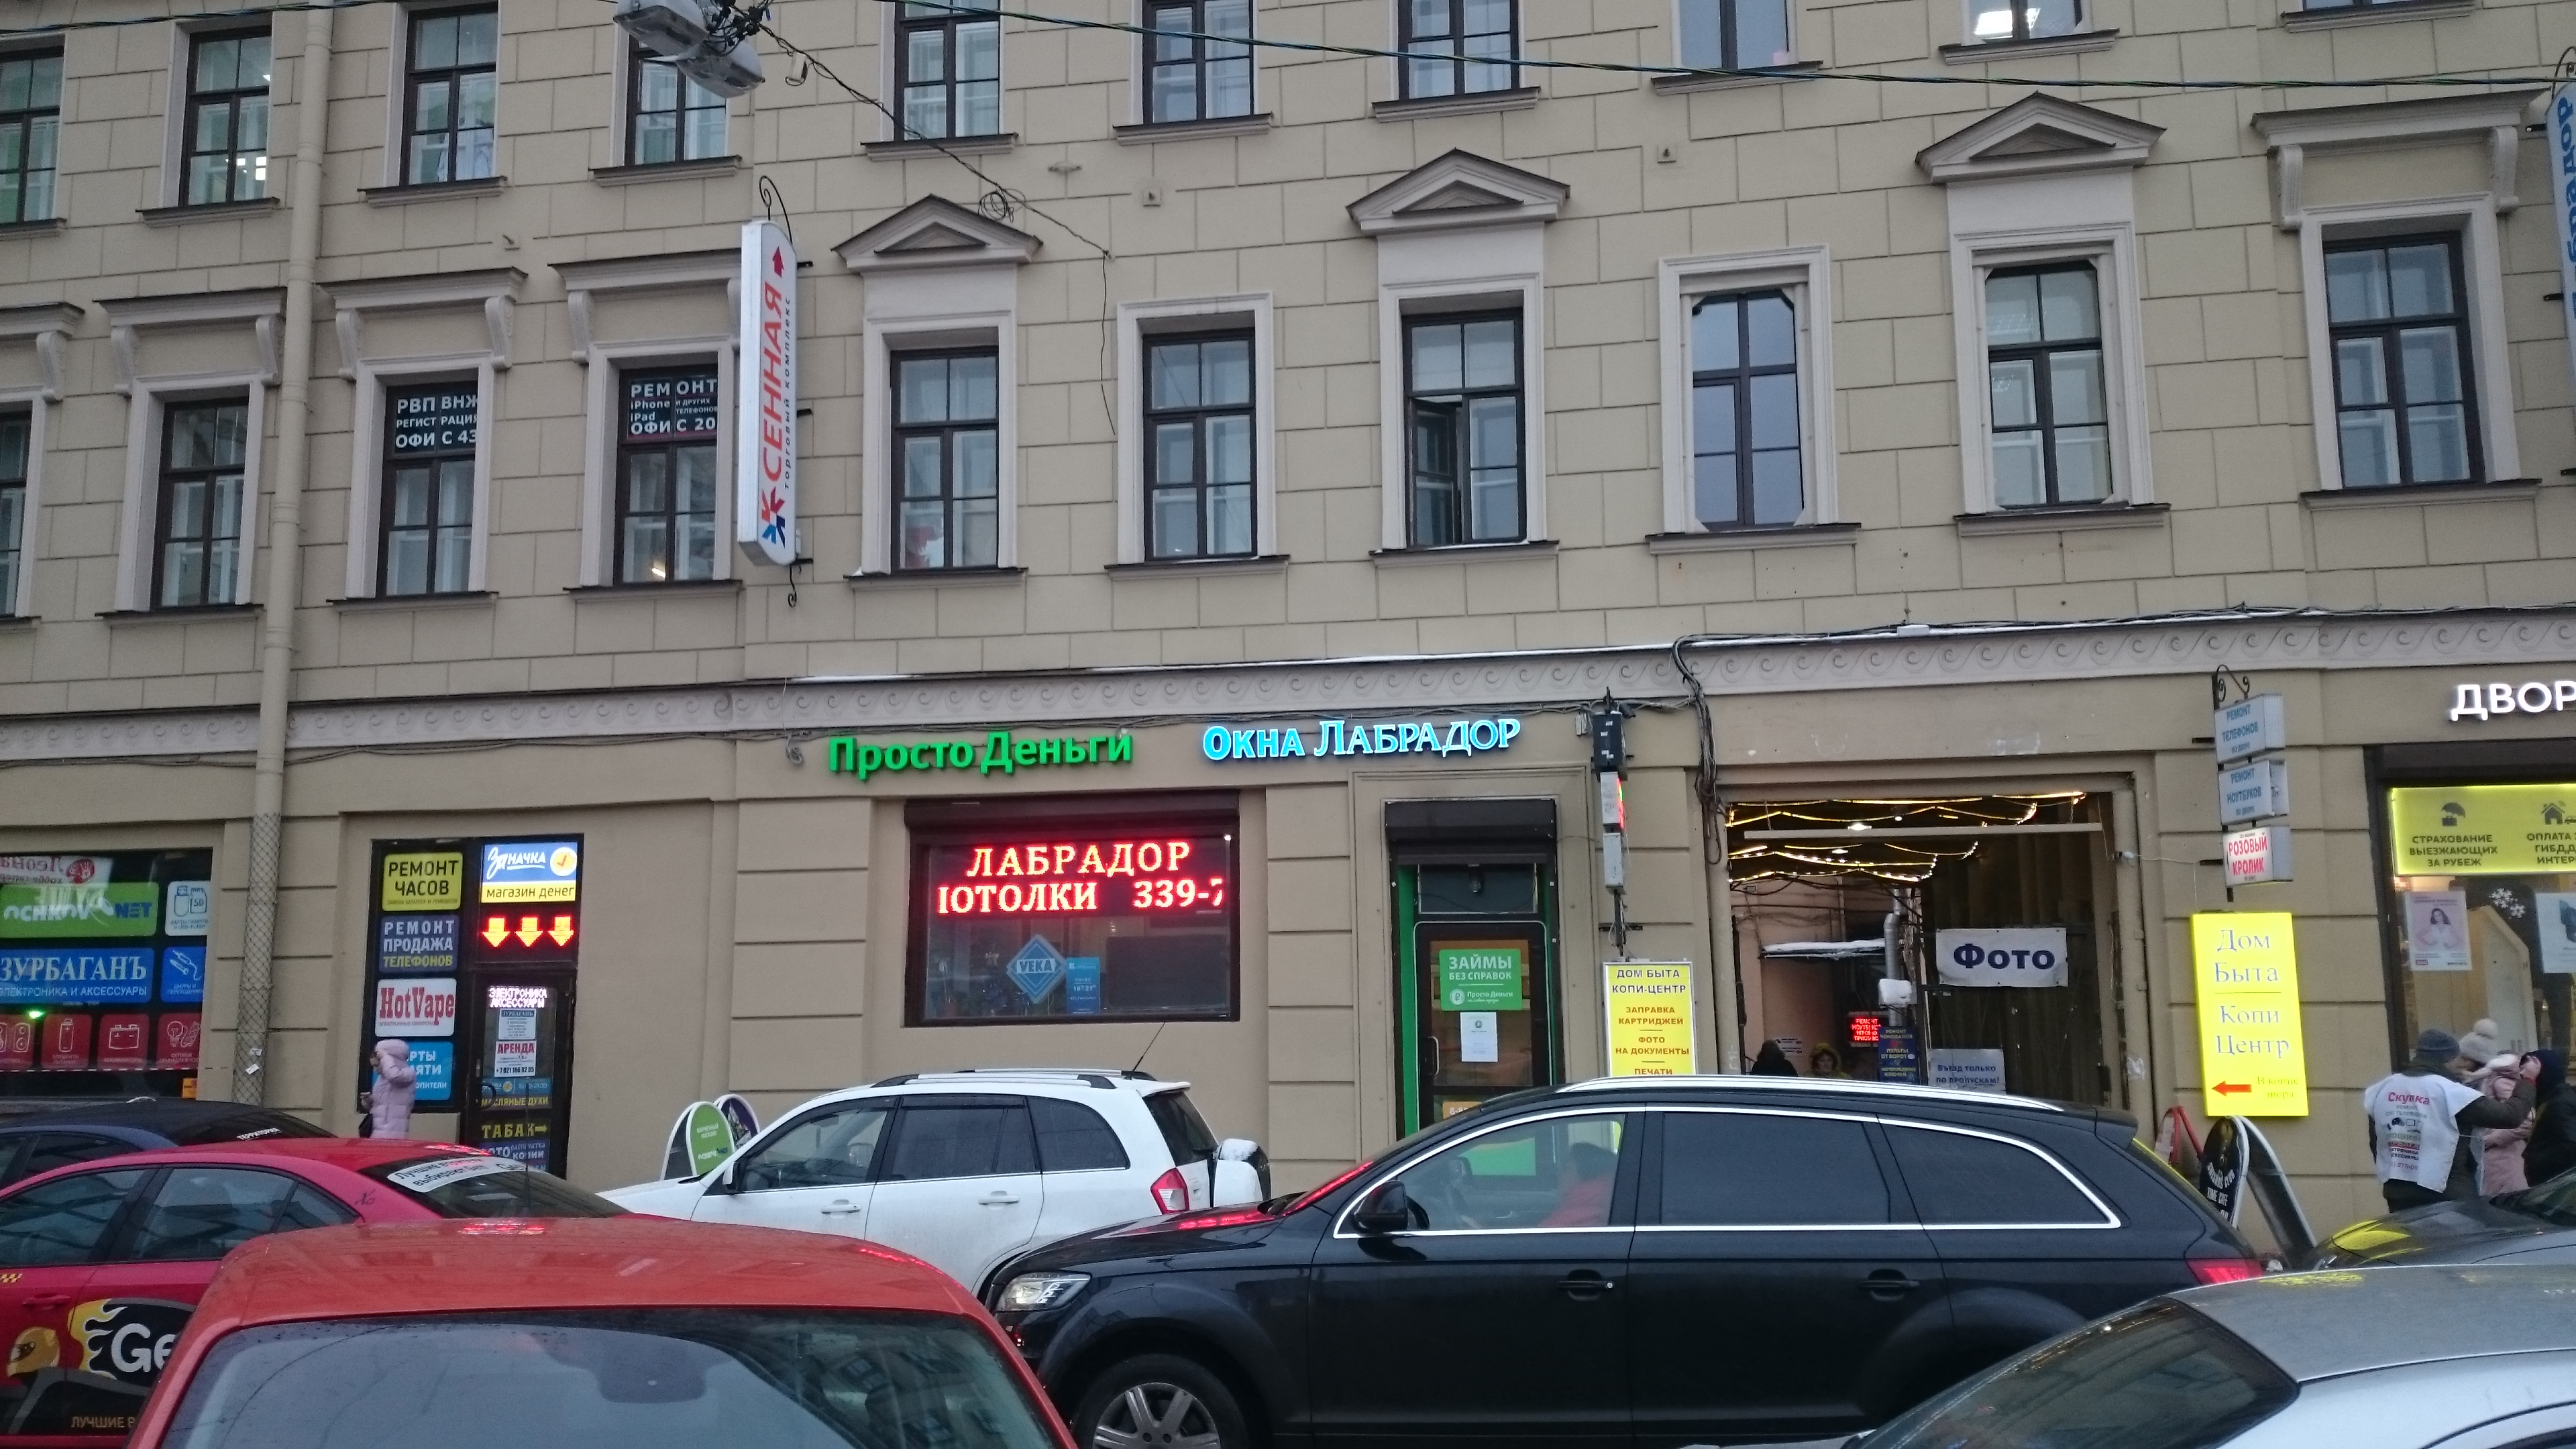arch: (1683, 759, 2157, 1120)
cantilever: (734, 175, 832, 614), (2181, 663, 2300, 911), (1580, 701, 1658, 964)
signboard: (1201, 715, 1527, 761), (824, 731, 1139, 775), (2449, 671, 2576, 722)
win_ad: (931, 847, 1230, 913), (2388, 789, 2576, 872), (0, 885, 161, 939), (0, 952, 157, 1003), (487, 846, 580, 906), (623, 379, 718, 433), (373, 977, 456, 1039), (382, 853, 464, 911), (393, 395, 479, 448), (379, 918, 456, 977)
window: (911, 801, 1230, 1010), (2302, 228, 2500, 494), (1985, 257, 2125, 510), (1683, 287, 1826, 527), (1401, 308, 1537, 536), (886, 347, 1007, 571), (1139, 329, 1253, 557), (372, 377, 481, 610), (145, 393, 246, 621), (621, 354, 722, 580), (391, 0, 506, 196), (177, 25, 278, 209)
